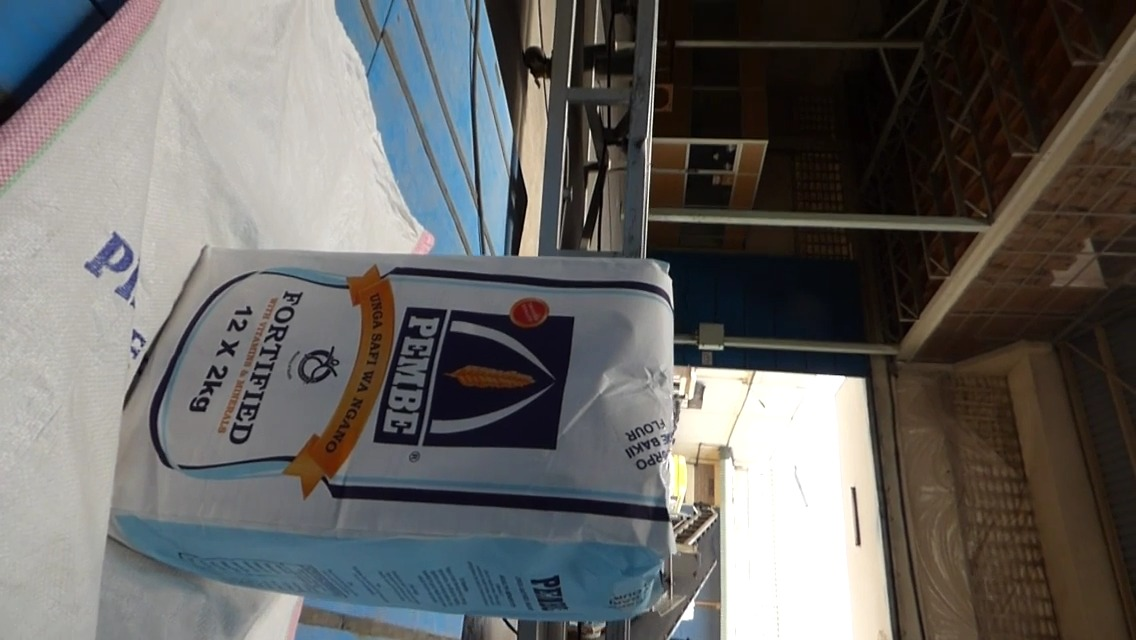wheat_flour_blue_label: (120, 246, 675, 615)
